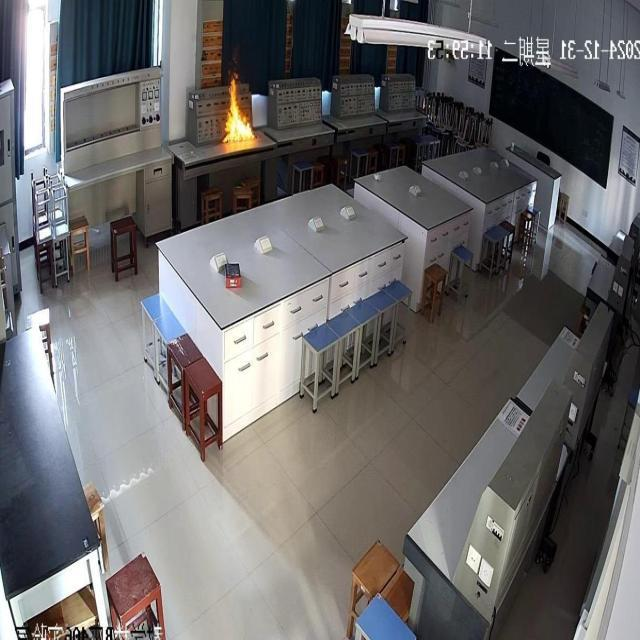smoke: (218, 64, 258, 145)
